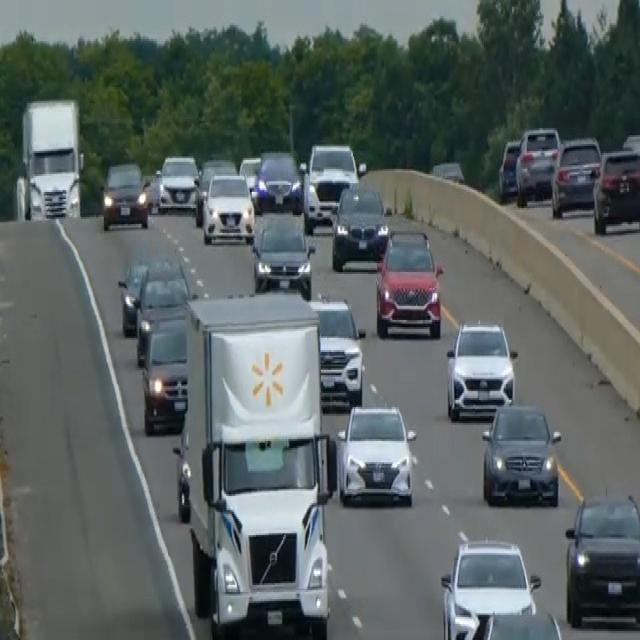car: (439, 535, 561, 638), (564, 489, 639, 629), (480, 400, 562, 507), (334, 402, 416, 506), (374, 226, 443, 340), (445, 318, 516, 422), (308, 293, 365, 407), (134, 256, 190, 363), (140, 314, 189, 434), (250, 208, 314, 297), (329, 178, 389, 270), (306, 140, 364, 222), (550, 133, 601, 217), (592, 146, 639, 234), (201, 170, 254, 243), (515, 124, 561, 204), (100, 158, 149, 230), (253, 148, 302, 212), (193, 155, 237, 224), (470, 606, 564, 638), (116, 258, 149, 336), (156, 153, 199, 211), (497, 135, 521, 199), (238, 155, 261, 199), (431, 158, 464, 183)
lorry: (173, 288, 334, 638)
